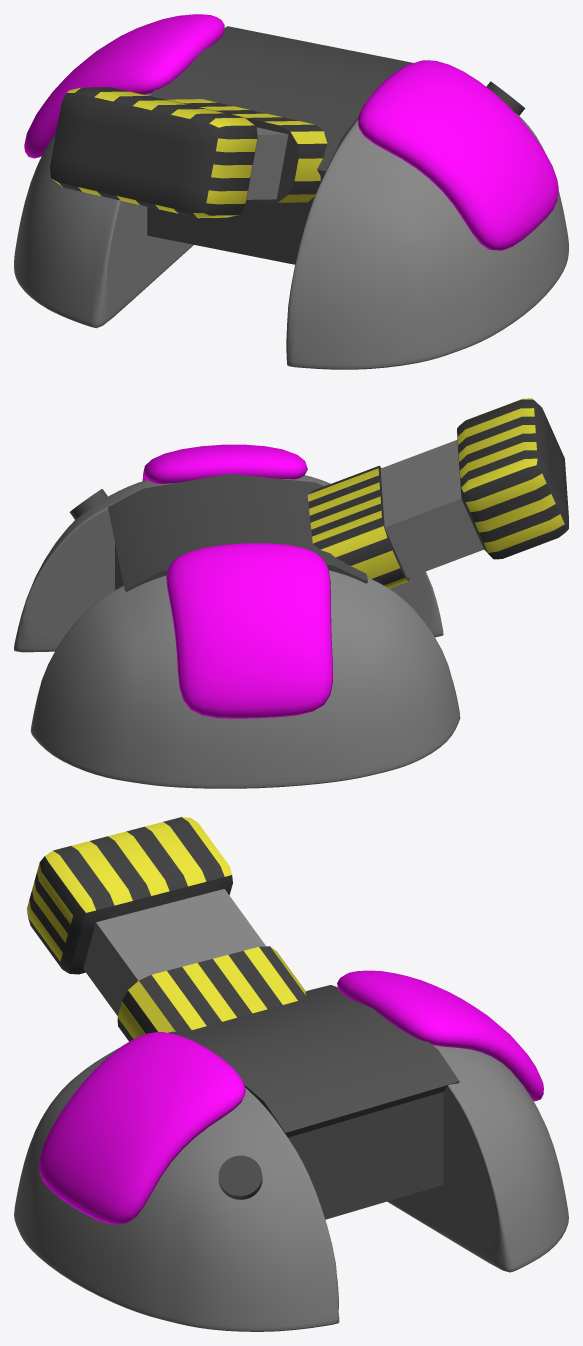
Rendered from CovertOps.fbx.
3 renders of one model, top to bottom at view 1: azimuth 30°, elevation 25°; view 2: azimuth 150°, elevation 25°; view 3: azimuth 270°, elevation 25°, orthographic. The views are drawn at different scales.
Parts seen in each view (by area): view 1: Cube.057, Cube.058, Cube.052, Cube.056; view 2: Cube.057, Cube.058, Cube.052, Cube.056; view 3: Cube.057, Cube.052, Cube.056, Cube.058, Cylinder.067.
Boxes of the visible parts, bbox=[...] form: Cube.057: bbox=[14, 93, 568, 369]; Cube.058: bbox=[24, 14, 558, 250]; Cube.052: bbox=[49, 87, 327, 218]; Cube.056: bbox=[147, 26, 413, 264]; Cube.057: bbox=[14, 475, 460, 788]; Cube.058: bbox=[142, 444, 332, 718]; Cube.052: bbox=[307, 398, 568, 588]; Cube.056: bbox=[108, 474, 367, 591]; Cube.057: bbox=[14, 1045, 568, 1331]; Cube.052: bbox=[27, 817, 305, 1041]; Cube.056: bbox=[168, 985, 459, 1219]; Cube.058: bbox=[39, 970, 543, 1224]; Cylinder.067: bbox=[218, 1155, 262, 1199].
Bounding box in the file's own units: 207 × 100 × 187.
